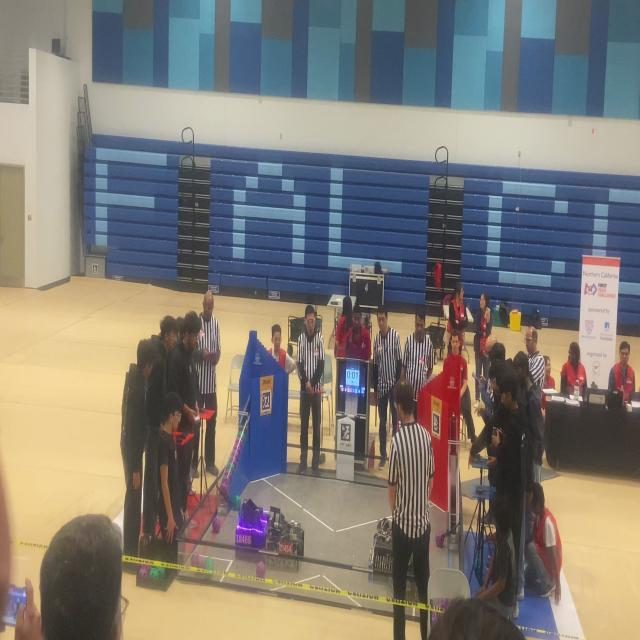artifact_green: (230, 449, 241, 466), (220, 478, 229, 497), (230, 444, 241, 459), (221, 469, 232, 483), (203, 557, 214, 570), (223, 459, 230, 478), (221, 469, 231, 482), (224, 458, 232, 474), (149, 567, 159, 579), (229, 447, 238, 460), (191, 555, 200, 567), (474, 556, 481, 571), (233, 452, 240, 466), (158, 567, 166, 579), (234, 433, 241, 446), (234, 432, 242, 443), (198, 556, 205, 568), (228, 462, 235, 474), (229, 454, 236, 466), (319, 452, 326, 464), (236, 435, 243, 446), (233, 437, 240, 448), (240, 430, 247, 441), (232, 440, 238, 452), (237, 440, 243, 452), (237, 437, 243, 447), (409, 553, 413, 567), (237, 430, 243, 439)
artifact_purple: (256, 561, 266, 579), (436, 532, 445, 548), (212, 517, 221, 533), (220, 479, 229, 495), (139, 565, 150, 578), (223, 478, 231, 495), (191, 555, 202, 567), (149, 567, 159, 579), (221, 469, 230, 482), (233, 452, 240, 468), (233, 496, 241, 510), (440, 598, 450, 609), (218, 477, 225, 492), (229, 450, 238, 461), (235, 436, 243, 448), (223, 465, 231, 477), (231, 443, 238, 456), (229, 453, 236, 466), (232, 448, 241, 458), (226, 475, 232, 490), (233, 453, 239, 466), (232, 442, 238, 454), (199, 556, 205, 568), (236, 441, 243, 451), (236, 437, 243, 446), (237, 440, 243, 450), (229, 462, 234, 474), (238, 439, 244, 449), (240, 431, 246, 441), (228, 473, 233, 484), (238, 445, 243, 453)
